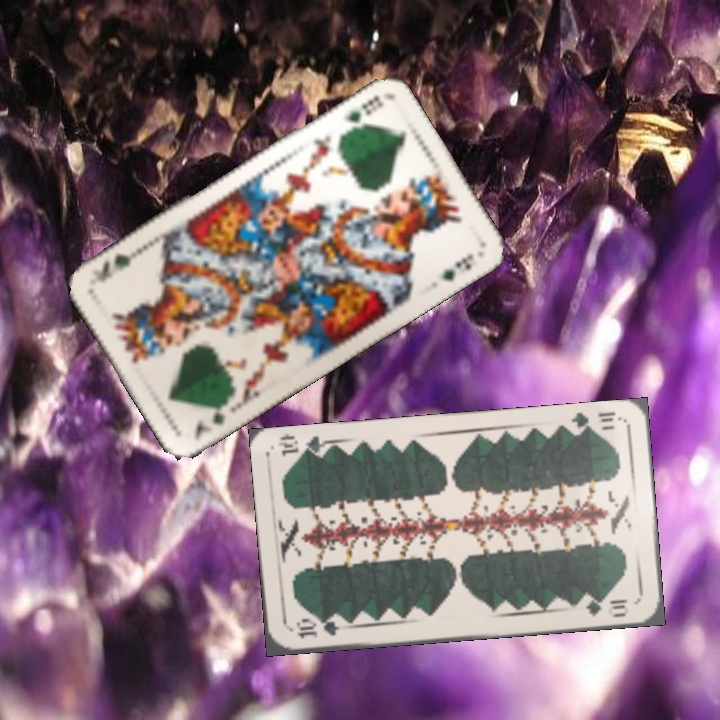G10: (564, 408, 623, 437), (292, 616, 348, 641)
GK: (189, 395, 232, 442), (342, 91, 387, 127)
